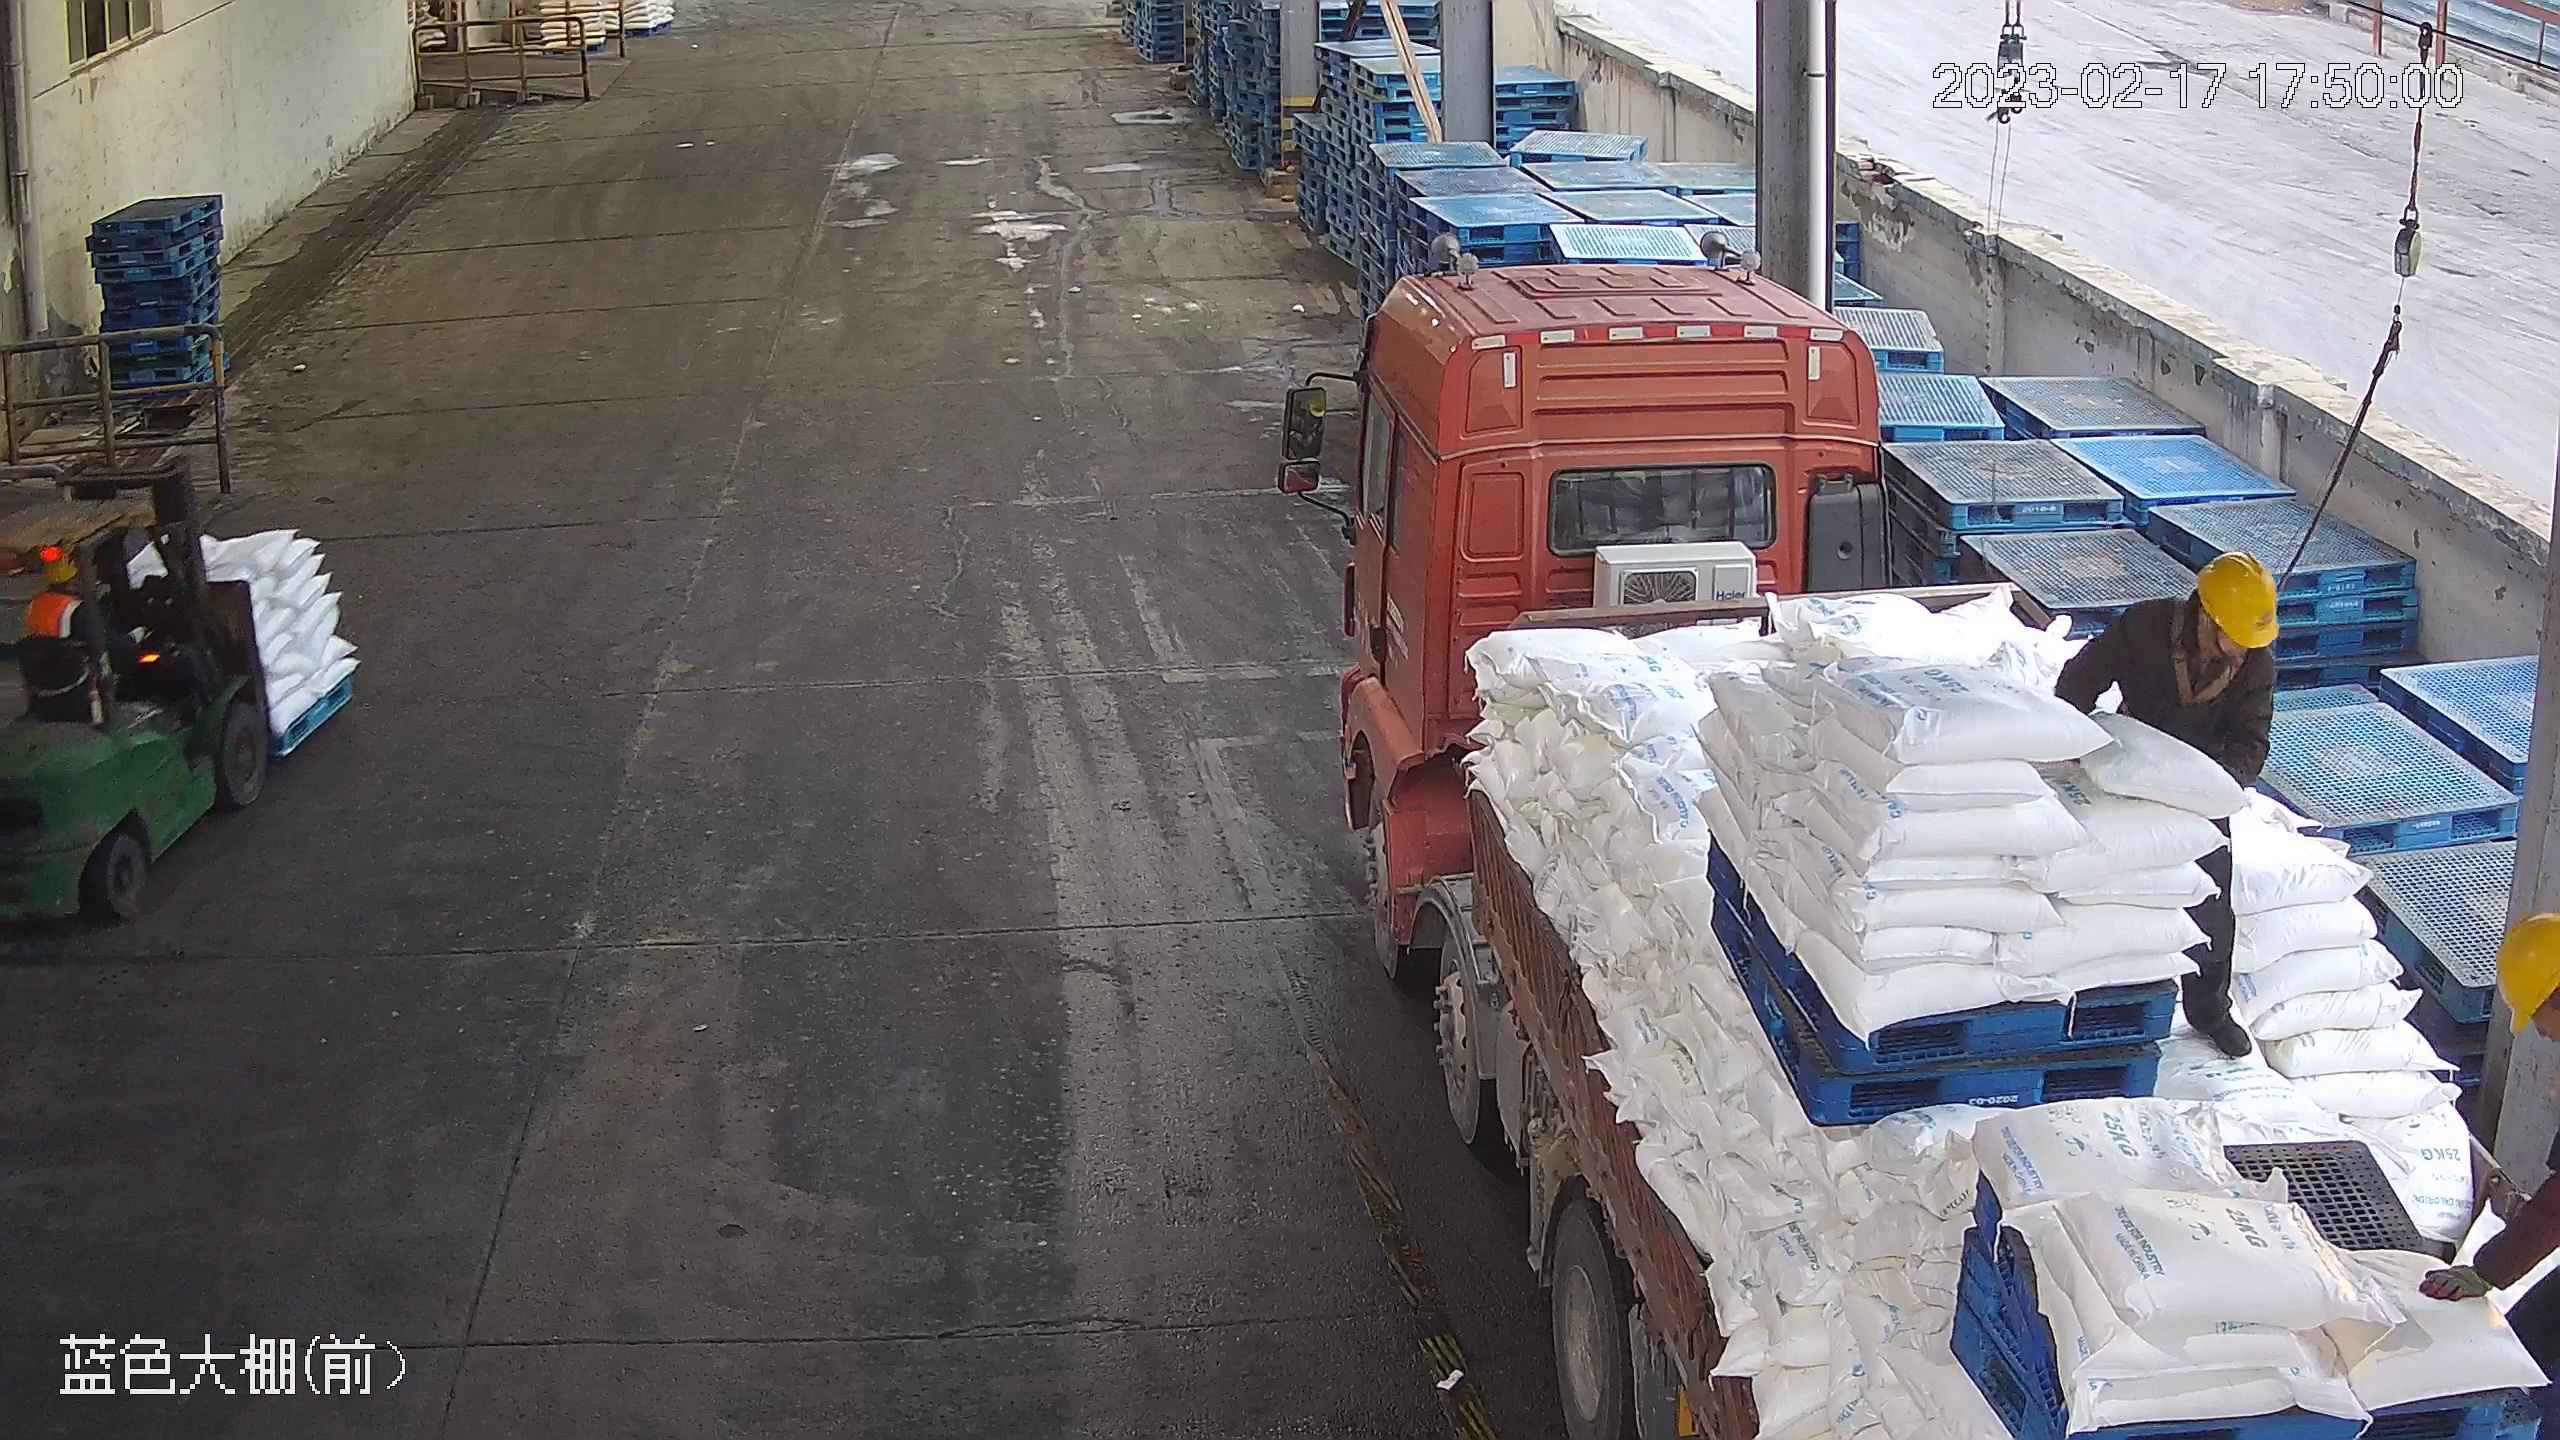belt: (2161, 593, 2256, 706)
head: (2105, 547, 2285, 683)
helmet: (2488, 907, 2559, 1038), (2193, 548, 2282, 648)
people: (2056, 548, 2284, 1071), (2420, 913, 2560, 1439)
truck: (1274, 262, 2560, 1440)
